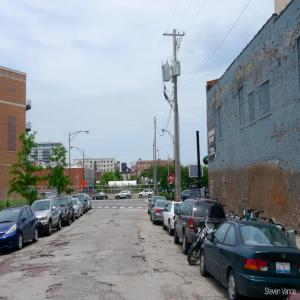Vehicle-registration-plate: (277, 261, 291, 275)
